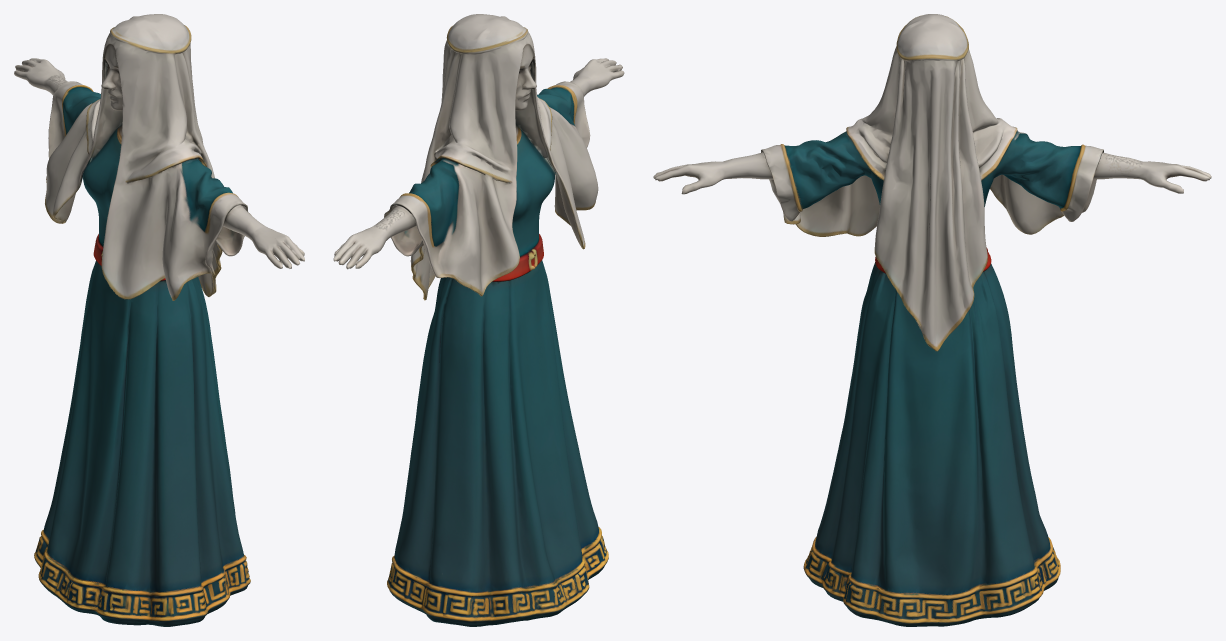
File: veil2.glb
3 views of the same model, side by side, from view 1: azimuth 30°, elevation 25°; view 2: azimuth 150°, elevation 25°; view 3: azimuth 270°, elevation 25° (orthographic).
Visible parts, largest first — view 1: tripo_node_18cbb450-8092-4170-b9cd-5c7237f08fe2; view 2: tripo_node_18cbb450-8092-4170-b9cd-5c7237f08fe2; view 3: tripo_node_18cbb450-8092-4170-b9cd-5c7237f08fe2.
Part boxes in pixels (x1,y1,x2,y2): tripo_node_18cbb450-8092-4170-b9cd-5c7237f08fe2: (14, 14, 304, 626); tripo_node_18cbb450-8092-4170-b9cd-5c7237f08fe2: (333, 14, 624, 626); tripo_node_18cbb450-8092-4170-b9cd-5c7237f08fe2: (653, 14, 1211, 626).
Size of the model in its own units: 0.3004 by 1 by 0.8812.
1 material, 1 textured.
